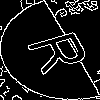R: (25, 25, 100, 76)
